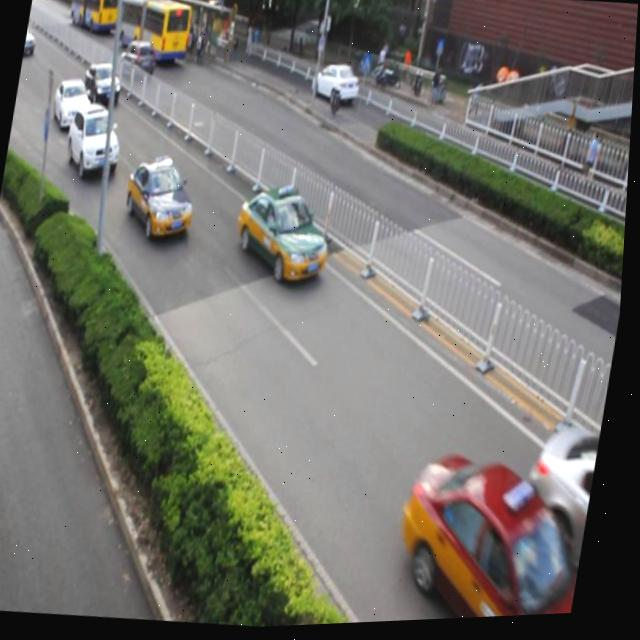car: (391, 445, 602, 625), (519, 425, 607, 589), (229, 179, 339, 293), (120, 153, 202, 242), (64, 103, 125, 182), (306, 62, 361, 111), (50, 77, 98, 131), (79, 60, 125, 113), (114, 40, 158, 83)
van: (113, 0, 194, 68)
